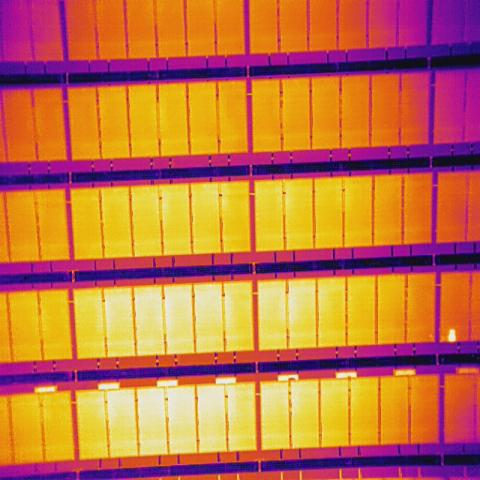fault: (447, 328, 457, 344)
